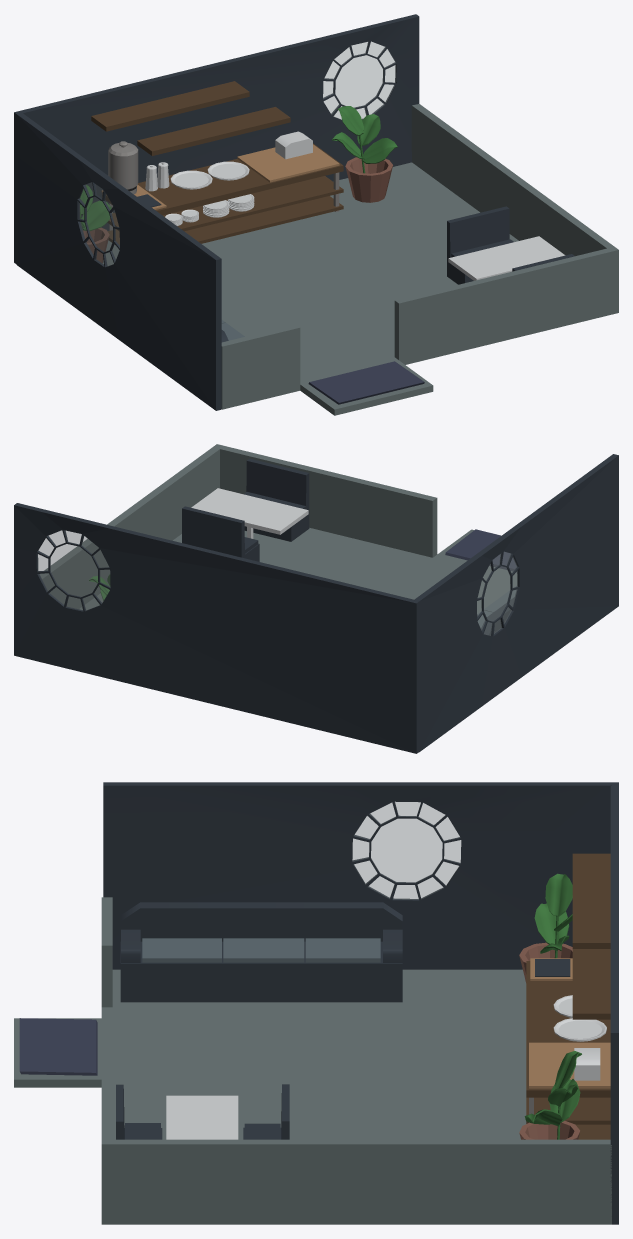
The model's file is staff_room.fbx.
3 renders of one model, top to bottom at view 1: azimuth 30°, elevation 25°; view 2: azimuth 150°, elevation 25°; view 3: azimuth 270°, elevation 25°, orthographic. The views are drawn at different scales.
Parts seen in each view (by area): view 1: floor_01_GEO, window_pane_GEO1, window_pane_GEO5, kitchen_table_GEO1, window_glass_GEO5, shelf_2_GEO, shelf_1_GEO, booth_chair8, rug_GEO3, booth_table4, board_GEO, window_glass_GEO1 (+6 smaller); view 2: window_pane_GEO5, window_pane_GEO1, floor_01_GEO, window_glass_GEO5, booth_chair9, booth_table4, booth_chair8, window_glass_GEO1, rug_GEO3; view 3: floor_01_GEO, window_pane_GEO1, couch_GEO1, window_glass_GEO1, kitchen_table_GEO1, rug_GEO3, window_pane_GEO5, shelf_2_GEO, booth_table4, shelf_1_GEO, board_GEO, cushion_2_GEO1 (+11 smaller).
Part boxes in pixels (<box>): floor_01_GEO: <box>103,104,618,415</box>; window_pane_GEO1: <box>16,113,221,410</box>; window_pane_GEO5: <box>14,14,419,264</box>; kitchen_table_GEO1: <box>102,143,343,244</box>; window_glass_GEO5: <box>323,41,395,119</box>; shelf_2_GEO: <box>91,81,249,131</box>; shelf_1_GEO: <box>137,107,290,155</box>; booth_chair8: <box>447,206,513,284</box>; rug_GEO3: <box>308,361,424,404</box>; booth_table4: <box>448,236,565,280</box>; board_GEO: <box>237,144,339,182</box>; window_glass_GEO1: <box>79,182,119,266</box>; window_pane_GEO5: <box>14,503,419,753</box>; window_pane_GEO1: <box>414,454,618,752</box>; floor_01_GEO: <box>40,444,516,613</box>; window_glass_GEO5: <box>38,530,110,610</box>; booth_chair9: <box>244,458,309,541</box>; booth_table4: <box>191,488,308,538</box>; booth_chair8: <box>182,506,259,561</box>; window_glass_GEO1: <box>477,552,517,635</box>; rug_GEO3: <box>445,529,516,571</box>; floor_01_GEO: <box>14,897,611,1224</box>; window_pane_GEO1: <box>103,782,611,969</box>; couch_GEO1: <box>120,902,402,1002</box>; window_glass_GEO1: <box>352,802,460,899</box>; kitchen_table_GEO1: <box>526,961,610,1139</box>; rug_GEO3: <box>19,1018,97,1075</box>; window_pane_GEO5: <box>610,782,618,1224</box>; shelf_2_GEO: <box>572,853,610,948</box>; booth_table4: <box>166,1095,238,1139</box>; shelf_1_GEO: <box>572,949,610,1019</box>; board_GEO: <box>529,1042,610,1088</box>; cushion_2_GEO1: <box>223,938,304,962</box>.
Bounding box in the file's own units: 825 × 296 × 843.
